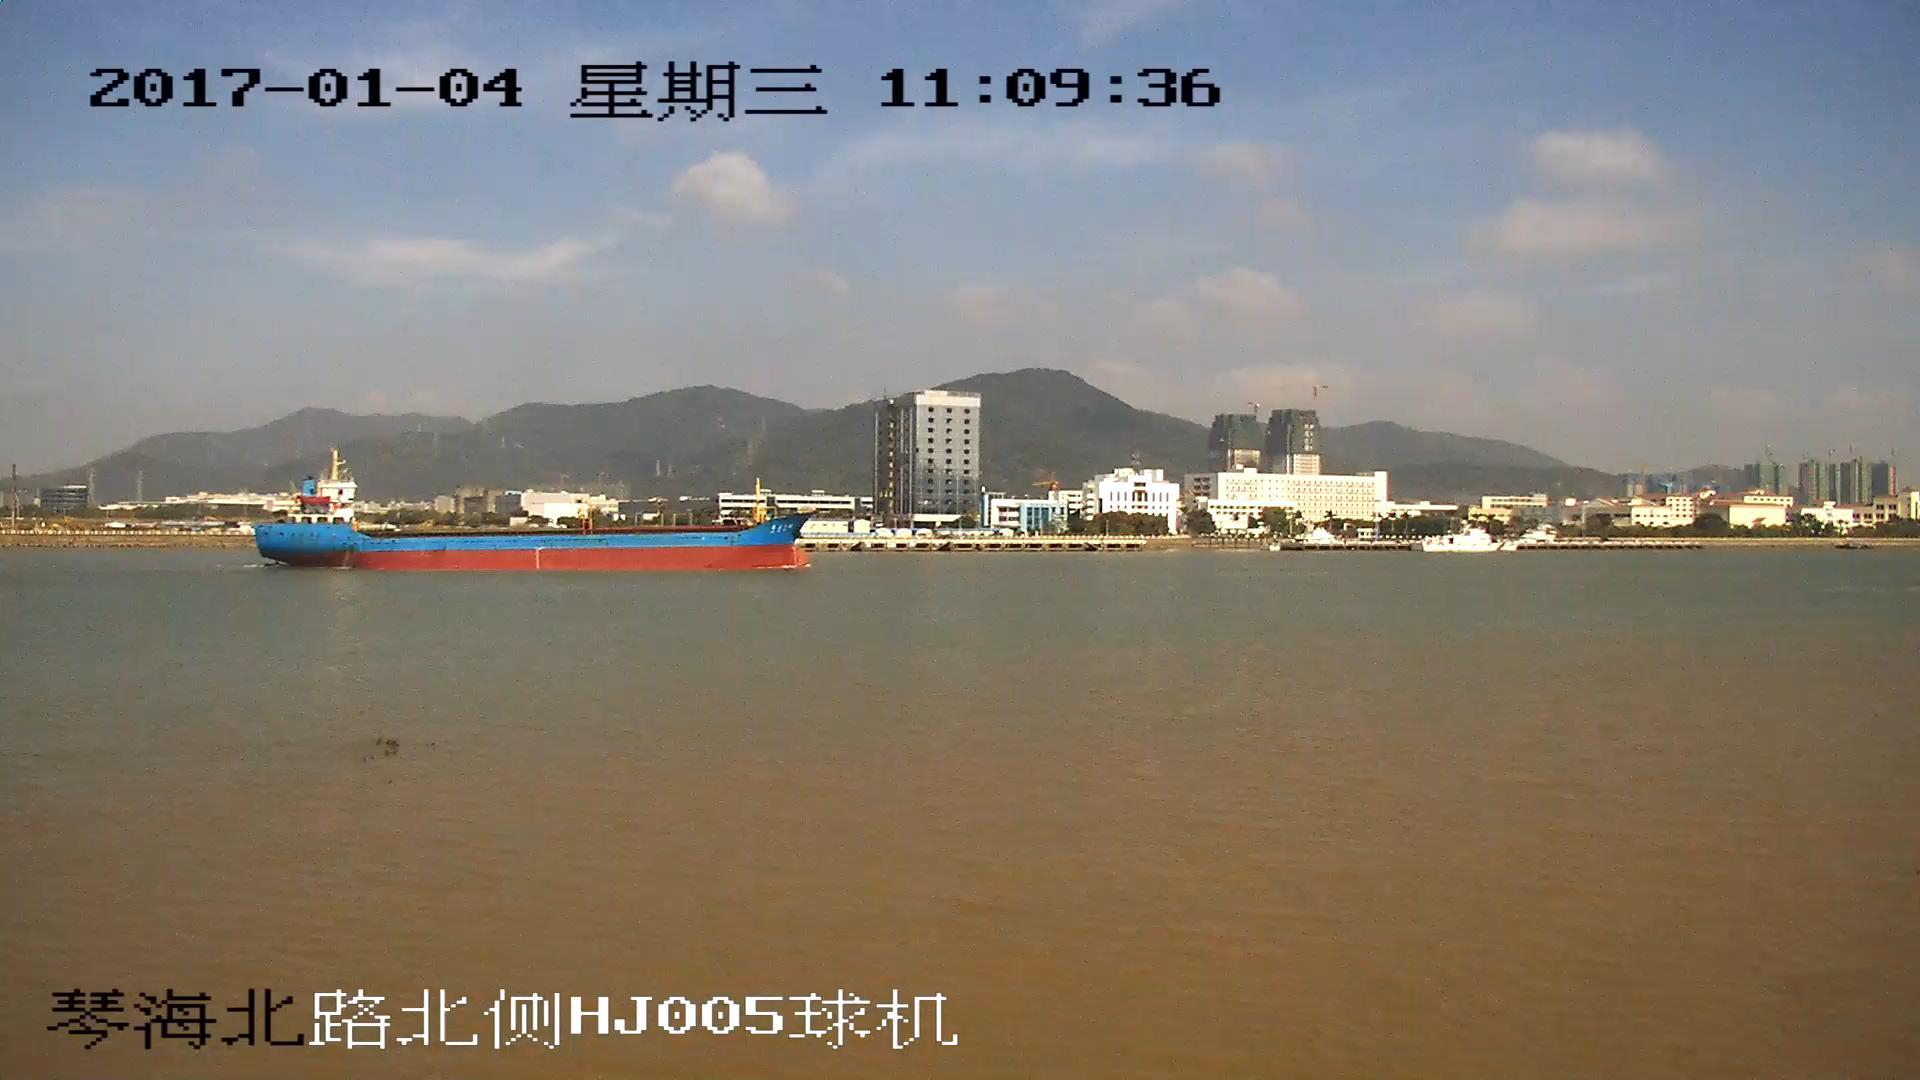Ship: (255, 448, 814, 575)
